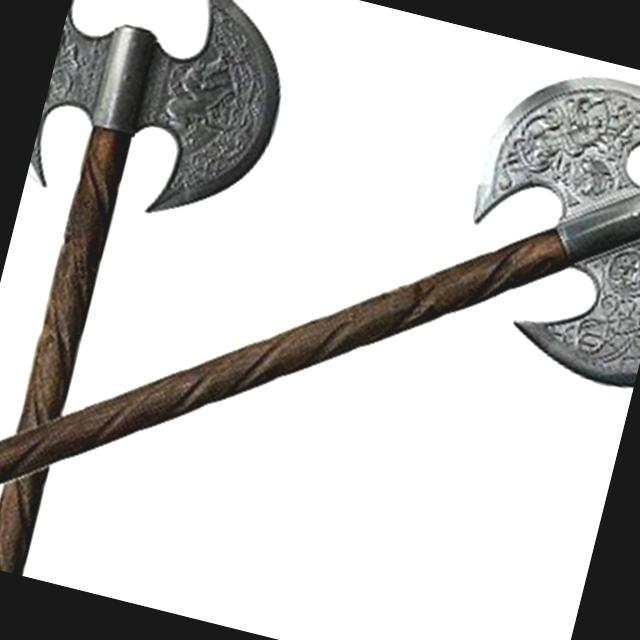ax: (0, 0, 640, 640), (0, 0, 314, 609)
